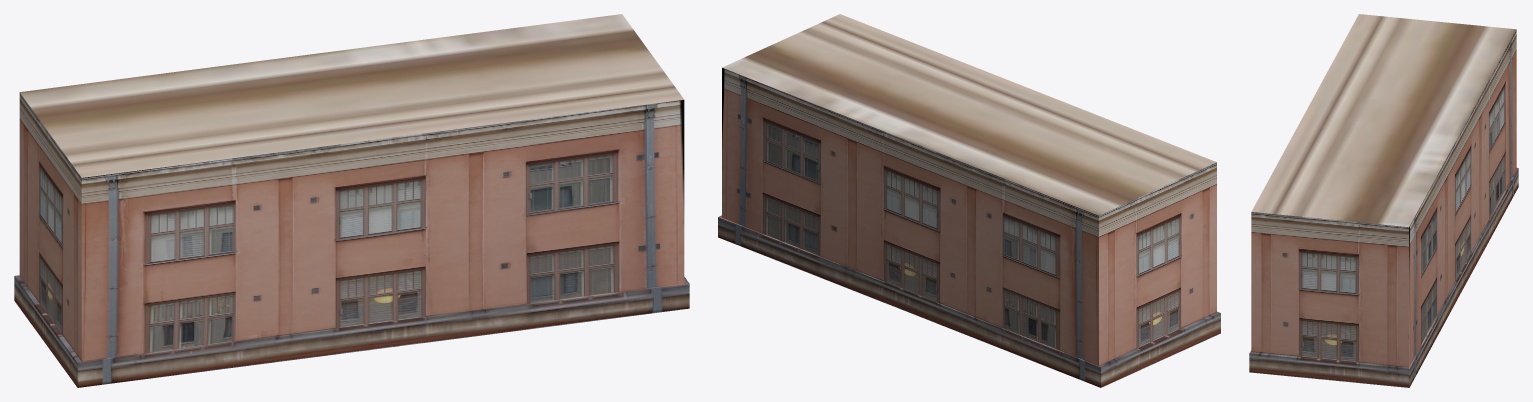
The model's file is building4.glb.
The picture shows the model from 3 angles, left to right: view 1: azimuth 30°, elevation 25°; view 2: azimuth 150°, elevation 25°; view 3: azimuth 270°, elevation 25°; orthographic projection. The views are drawn at different scales.
Parts seen in each view (by area): view 1: building4; view 2: building4; view 3: building4.
Boxes of the visible parts, x1,y1,x2,y2 form: building4: (14, 14, 689, 387); building4: (718, 14, 1220, 387); building4: (1249, 14, 1518, 387).
Size of the model in its own units: 51.52 by 17.66 by 27.09.
1 material, 1 textured.
